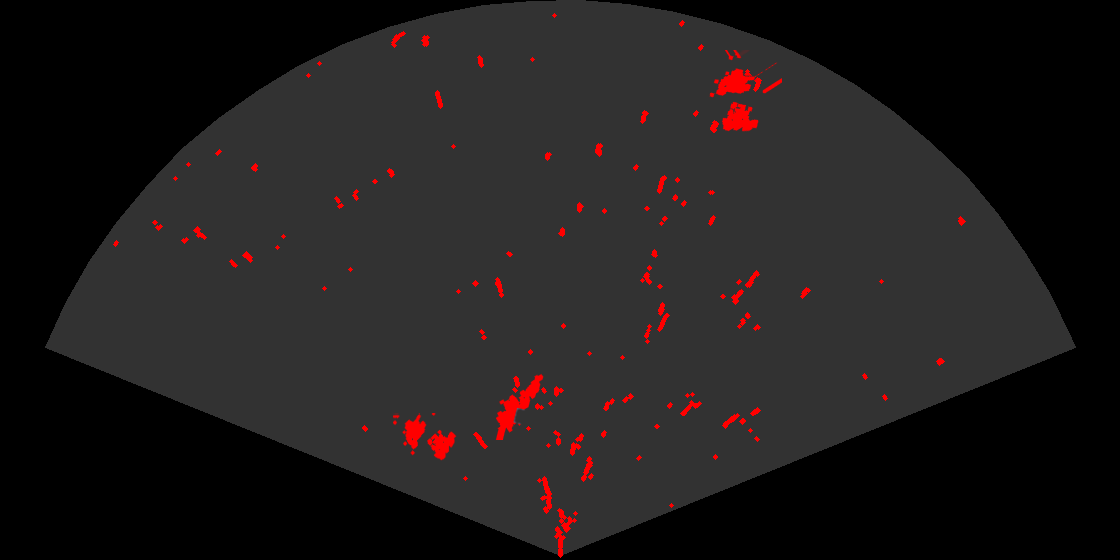cage: (708, 50, 782, 133), (393, 413, 458, 462)
frogman: (494, 373, 545, 440)
